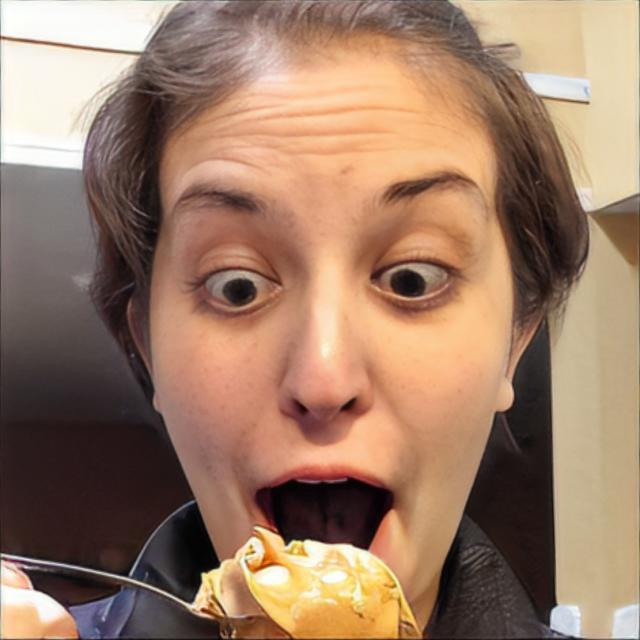surprise: (151, 30, 514, 625)
